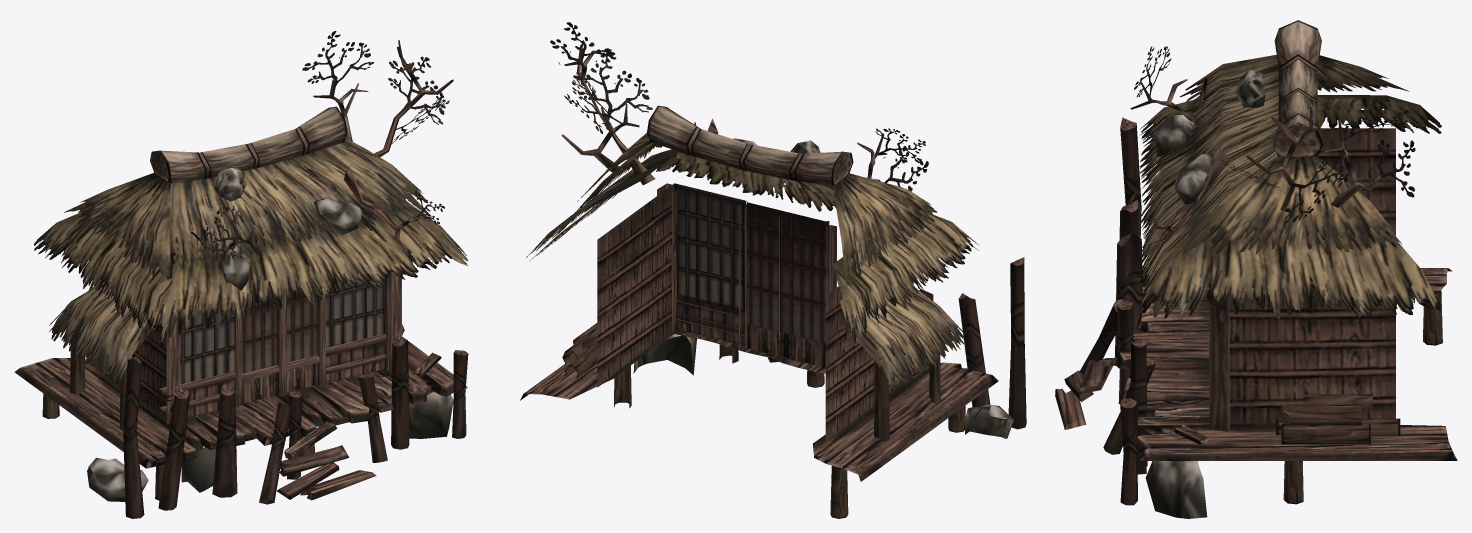
The model's file is PRP_HouseForestA01.FBX.
3 renders of one model, left to right at view 1: azimuth 30°, elevation 25°; view 2: azimuth 150°, elevation 25°; view 3: azimuth 270°, elevation 25°, orthographic. The views are drawn at different scales.
Visible parts, largest first — view 1: PRP_HouseForestA01; view 2: PRP_HouseForestA01; view 3: PRP_HouseForestA01.
Boxes of the visible parts, left/top/right/bottom form: PRP_HouseForestA01: left=14, top=31, right=468, bottom=518; PRP_HouseForestA01: left=520, top=22, right=1026, bottom=518; PRP_HouseForestA01: left=1055, top=20, right=1457, bottom=518.
Size of the model in its own units: 1042 by 850 by 700.
